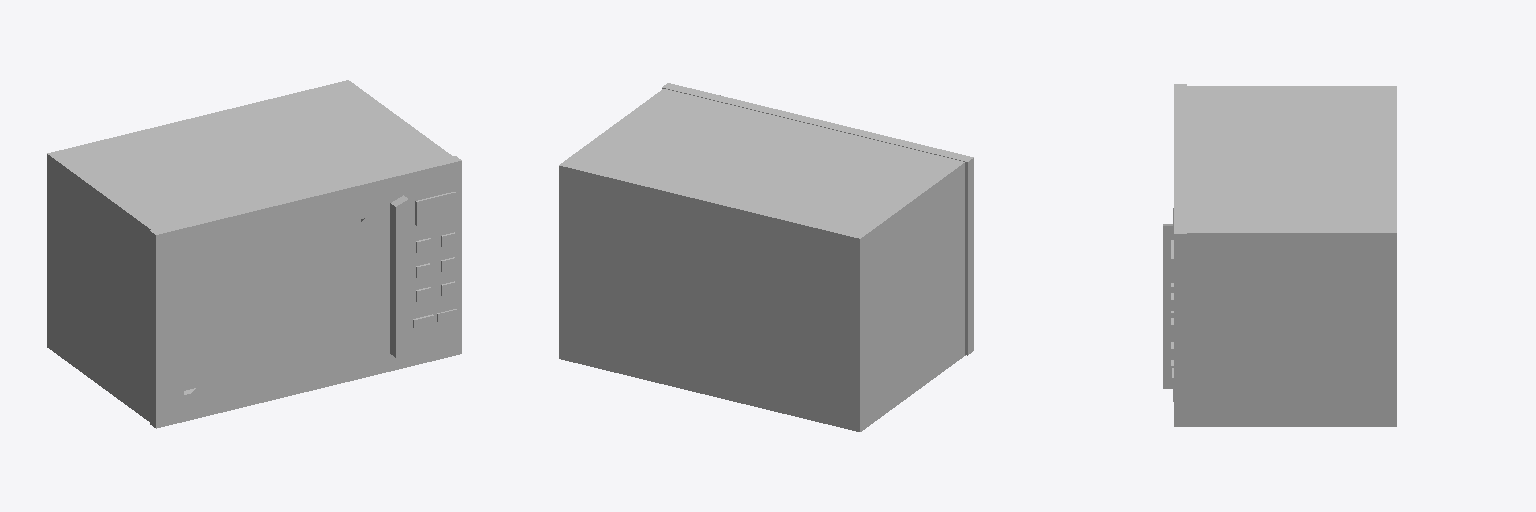
File: Microwave.obj
3 views of the same model, side by side, from view 1: azimuth 30°, elevation 25°; view 2: azimuth 150°, elevation 25°; view 3: azimuth 270°, elevation 25° (orthographic).
Visible parts, largest first — view 1: Cube.001, Cube; view 2: Cube, Cube.001; view 3: Cube, Cube.001.
Part boxes in pixels (bbox=[...]): Cube.001: bbox=[150, 156, 461, 428]; Cube: bbox=[47, 80, 452, 421]; Cube: bbox=[559, 89, 965, 431]; Cube.001: bbox=[662, 83, 973, 355]; Cube: bbox=[1187, 86, 1396, 426]; Cube.001: bbox=[1163, 84, 1186, 426].
Bounding box in the file's own units: 3.31 × 2.01 × 2.19.